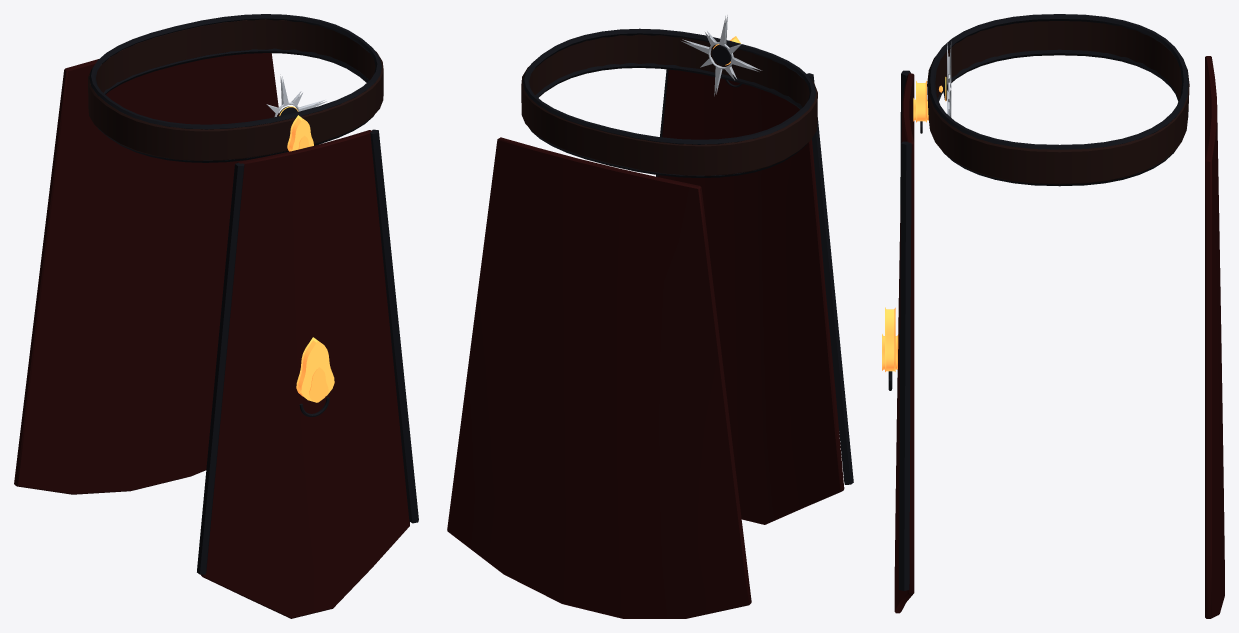
File: esc_ender_of_tomes_inner.glb
The picture shows the model from 3 angles, left to right: view 1: azimuth 30°, elevation 25°; view 2: azimuth 150°, elevation 25°; view 3: azimuth 270°, elevation 25°; orthographic projection. The views are drawn at different scales.
Parts seen in each view (by area): view 1: esc_ender_of_tomes_inner; view 2: esc_ender_of_tomes_inner; view 3: esc_ender_of_tomes_inner.
Boxes of the visible parts, box(x1,y1,x2,y2) form: esc_ender_of_tomes_inner: box(14, 14, 418, 618); esc_ender_of_tomes_inner: box(447, 15, 853, 618); esc_ender_of_tomes_inner: box(882, 14, 1224, 618).
Bounding box in the file's own units: 0.5401 × 0.8917 × 0.496.
